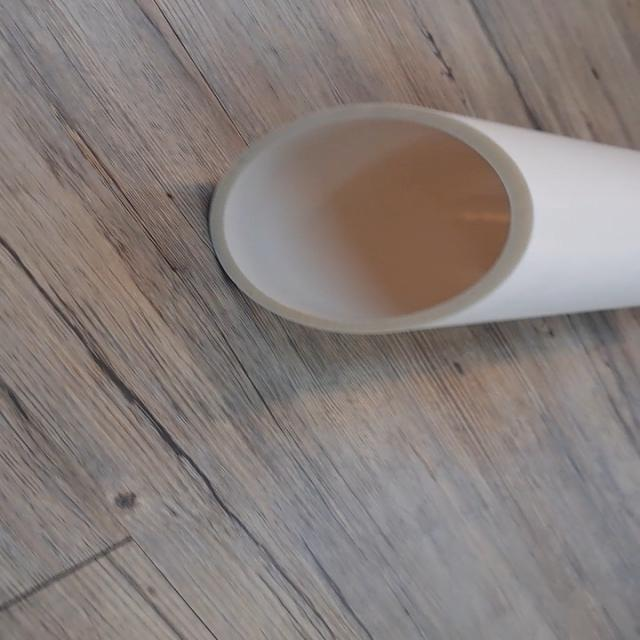CORAL: (199, 97, 640, 340)
